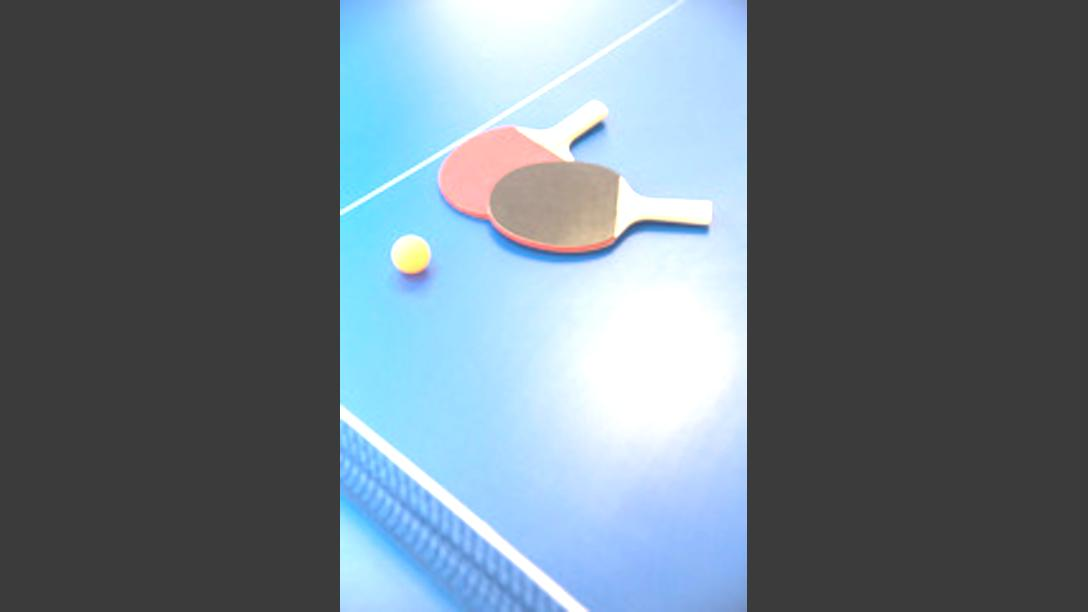Table-Tennis-Ball: (393, 236, 429, 272)
